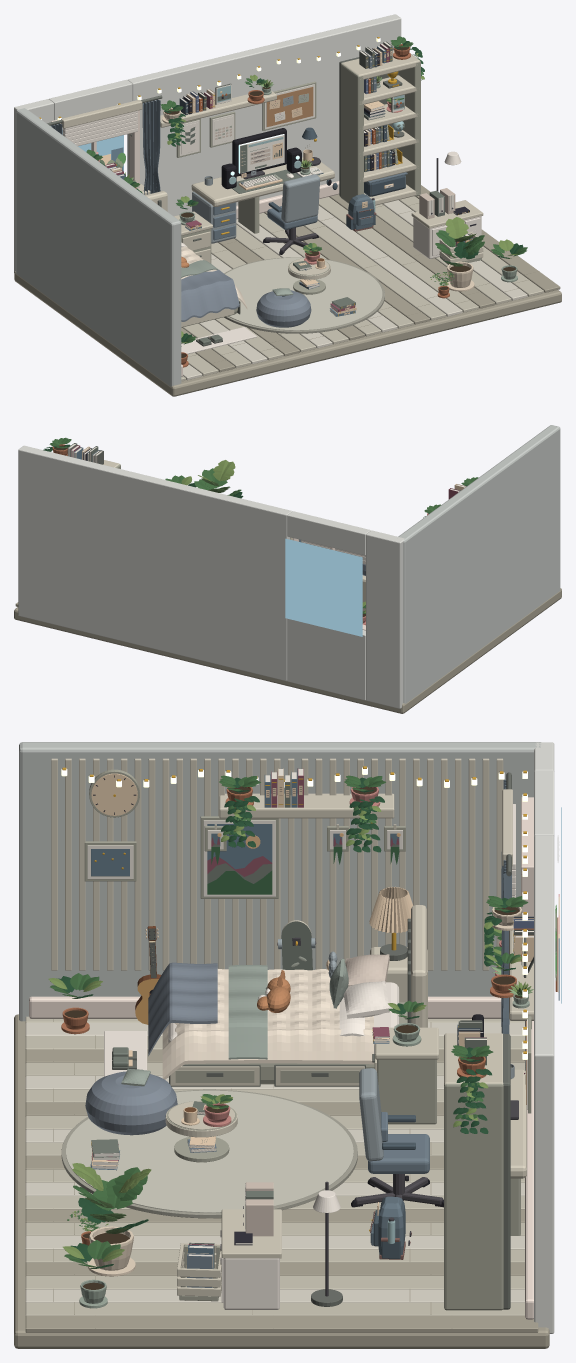
The model's file is minimalista-room.glb.
The picture shows the model from 3 angles, top to bottom: view 1: azimuth 30°, elevation 25°; view 2: azimuth 150°, elevation 25°; view 3: azimuth 270°, elevation 25°; orthographic projection. The views are drawn at different scales.
Visible parts, largest first — view 1: room_MAT_WALL_SHADOW, room_MAT_WALL, room_MAT_FLOOR_DARK, room_MAT_FLOOR, room_MAT_OAK_LIGHT, room_MAT_OAK, room_MAT_RUG_CREAM, room_MAT_FLOOR_LIGHT, room_MAT_LINEN, room_MAT_TEXTILE_ROSE, room_MAT_PAPER, room_MAT_PINK (+24 smaller); view 2: room_MAT_WALL, room_MAT_WALL_SHADOW, room_MAT_EXTERIOR_UNLIT_MAT_OUTDOOR_SKY, room_MAT_FLOOR_DARK, room_MAT_BOT_LEAF, room_MAT_BOT_LEAF_LIME; view 3: room_MAT_WALL_SHADOW, room_MAT_OAK_LIGHT, room_MAT_FLOOR_DARK, room_MAT_FLOOR, room_MAT_OAK, room_MAT_RUG_CREAM, room_MAT_FLOOR_LIGHT, room_MAT_WALL, room_MAT_TEXTILE_IVORY, room_MAT_TEXTILE_ROSE, room_MAT_LINEN, room_MAT_TRIM (+24 smaller).
Boxes of the visible parts, x1,y1,x2,y2 form: room_MAT_WALL_SHADOW: [16, 108, 181, 386]; room_MAT_WALL: [14, 14, 401, 272]; room_MAT_FLOOR_DARK: [14, 185, 561, 396]; room_MAT_FLOOR: [181, 196, 543, 381]; room_MAT_OAK_LIGHT: [61, 50, 483, 326]; room_MAT_OAK: [176, 54, 481, 327]; room_MAT_RUG_CREAM: [225, 257, 382, 330]; room_MAT_FLOOR_LIGHT: [183, 200, 527, 380]; room_MAT_LINEN: [62, 110, 481, 354]; room_MAT_TEXTILE_ROSE: [181, 269, 311, 327]; room_MAT_PAPER: [105, 42, 476, 315]; room_MAT_PINK: [51, 51, 472, 289]; room_MAT_WALL: [18, 445, 404, 708]; room_MAT_WALL_SHADOW: [397, 425, 560, 703]; room_MAT_EXTERIOR_UNLIT_MAT_OUTDOOR_SKY: [285, 538, 362, 636]; room_MAT_FLOOR_DARK: [14, 588, 561, 713]; room_MAT_BOT_LEAF: [45, 437, 478, 613]; room_MAT_BOT_LEAF_LIME: [181, 460, 365, 613]; room_MAT_WALL_SHADOW: [19, 742, 540, 1021]; room_MAT_OAK_LIGHT: [51, 758, 533, 1296]; room_MAT_FLOOR_DARK: [14, 1014, 549, 1348]; room_MAT_FLOOR: [25, 1016, 524, 1315]; room_MAT_OAK: [84, 769, 531, 1310]; room_MAT_RUG_CREAM: [66, 1090, 353, 1212]; room_MAT_FLOOR_LIGHT: [25, 1022, 524, 1302]; room_MAT_WALL: [534, 742, 554, 1333]; room_MAT_TEXTILE_IVORY: [162, 969, 373, 1079]; room_MAT_TEXTILE_ROSE: [85, 962, 217, 1135]; room_MAT_LINEN: [104, 804, 515, 1309]; room_MAT_TRIM: [29, 797, 533, 1319].
Bounding box in the file's own units: 7.57 × 3.2 × 5.47.
